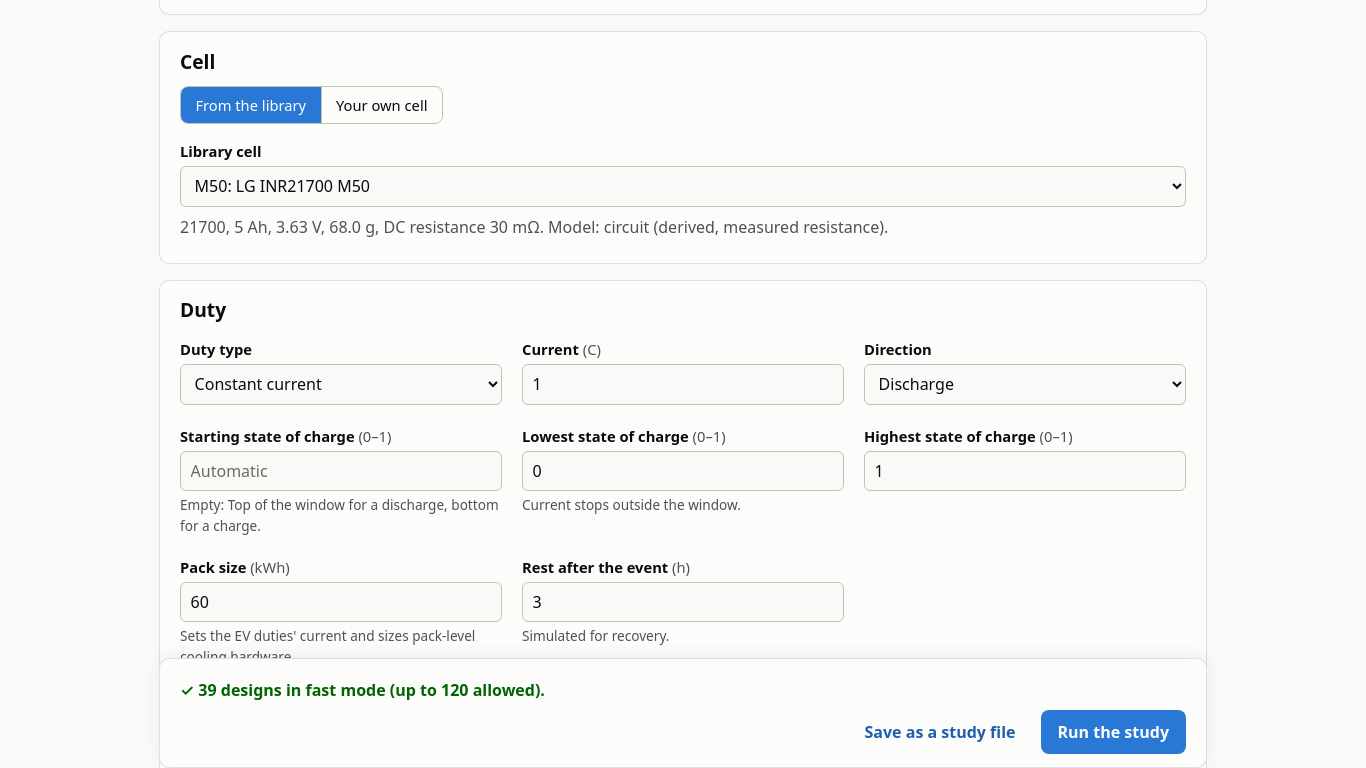
it: the setup screen › shows a field's problem instead of sending a bad value
This screenshot has width=1366, height=768.
(page scrolled)
Expected: the text "✓ 39 designs in fast mode (up to 120 allowed)." is shown, [180, 680, 545, 702]
Replace the text in the field labelled "Current (C)" with "-2" at point(683, 384), box [522, 364, 844, 405]
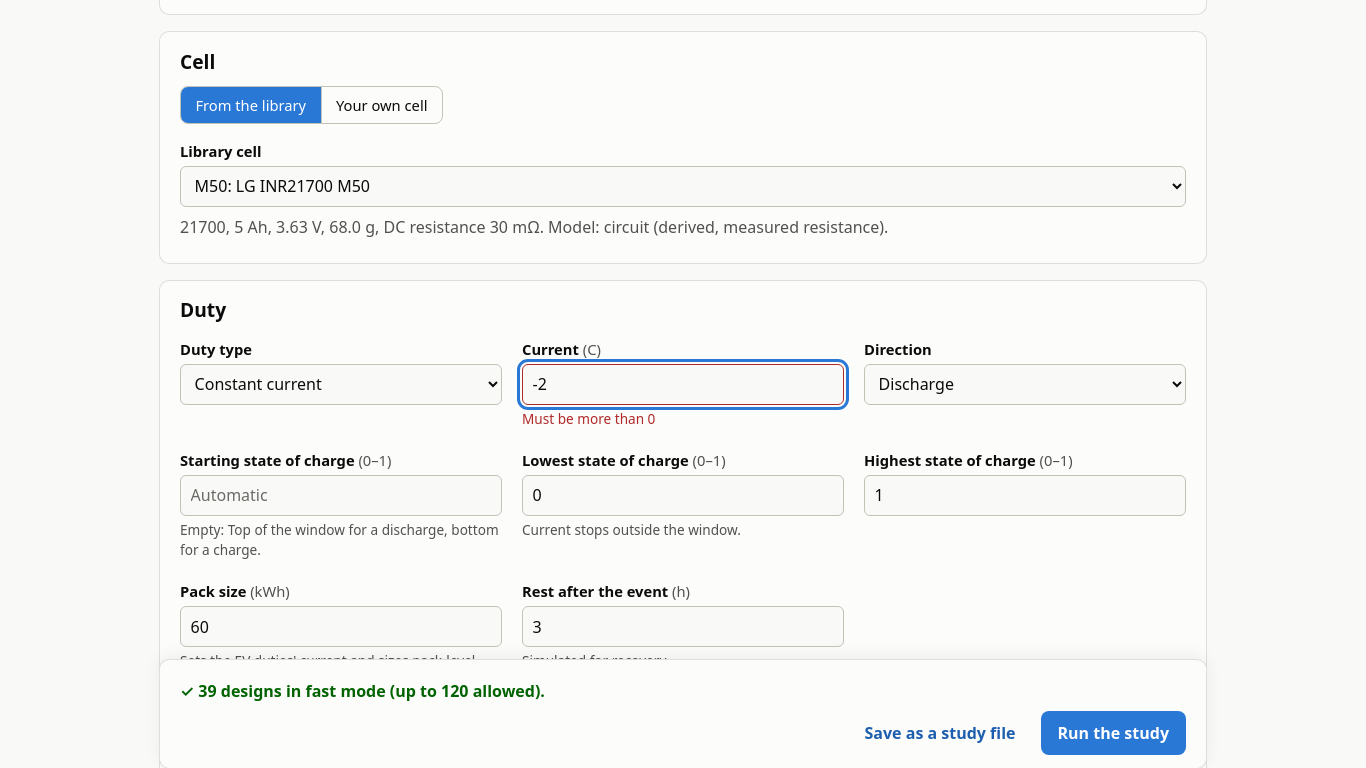
Expected: the text "Must be more than 0" is shown, [522, 409, 655, 428]
